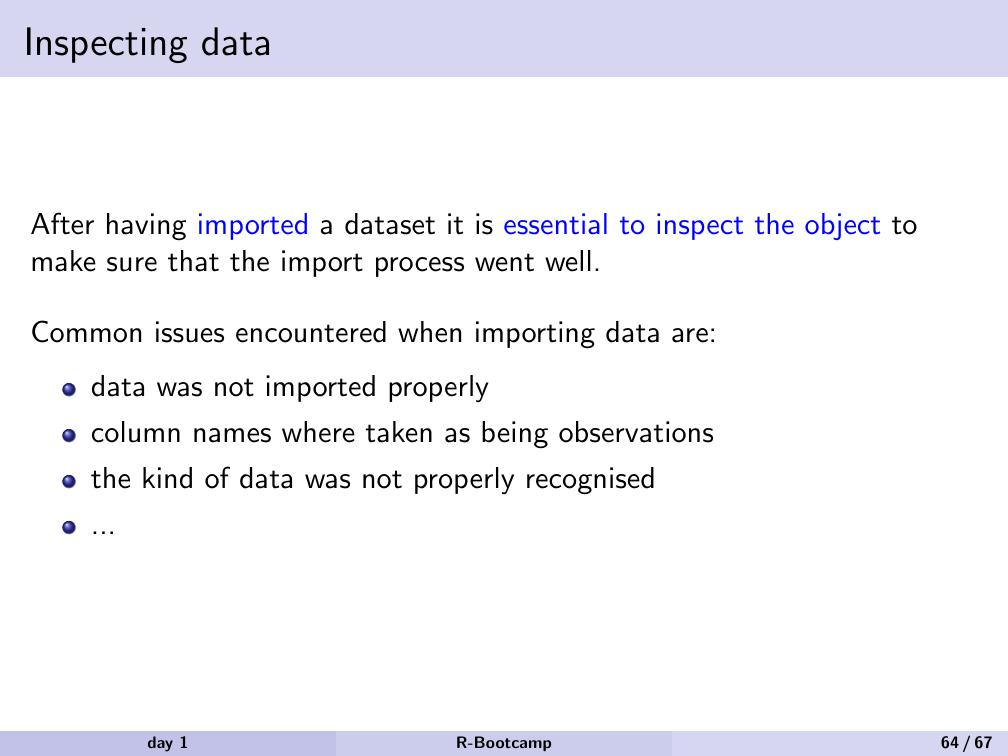Title: (17, 15, 277, 68)
